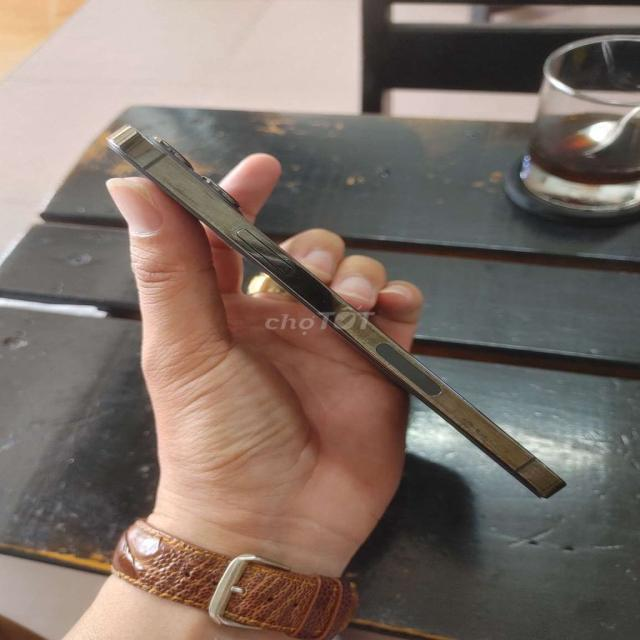scratch: (434, 387, 547, 485), (150, 158, 251, 245), (326, 303, 386, 360)
